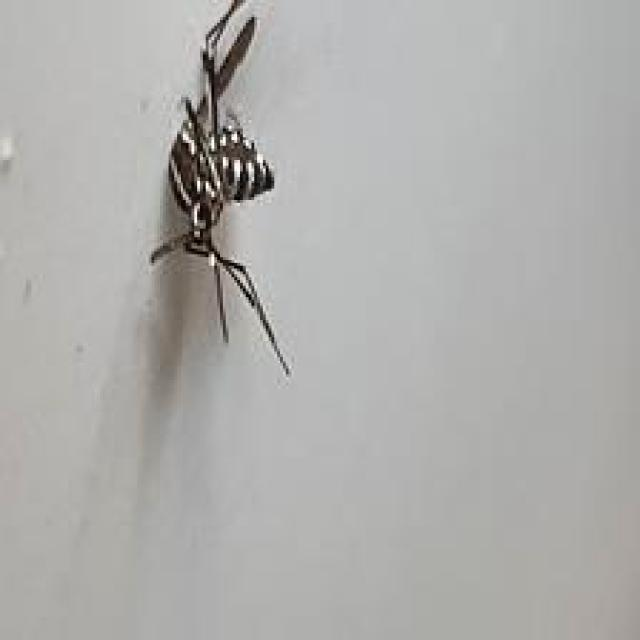Aedes albopictus: (147, 0, 293, 377)
